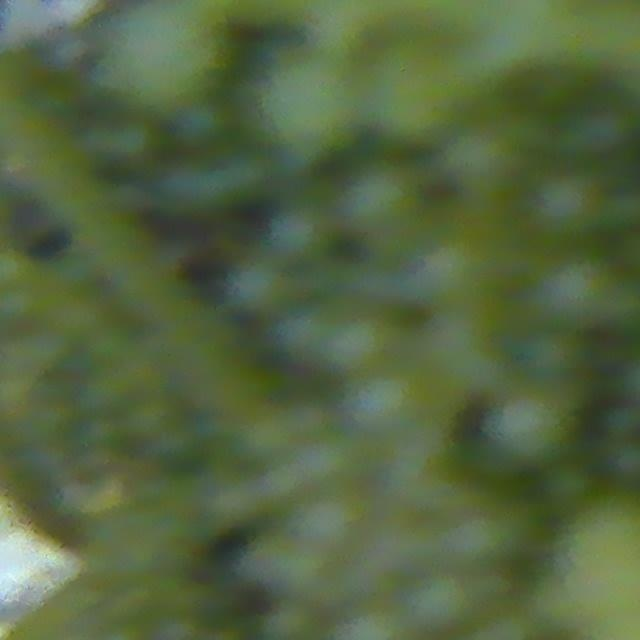SeaGrape: (96, 0, 222, 115), (257, 52, 364, 163), (362, 36, 465, 147), (482, 387, 576, 467), (345, 364, 436, 440), (444, 120, 526, 202), (339, 159, 422, 238), (450, 494, 533, 570), (537, 264, 615, 339), (530, 171, 601, 251), (270, 201, 345, 273), (319, 308, 404, 371), (296, 485, 369, 553), (406, 570, 477, 636), (236, 254, 295, 318), (428, 248, 489, 309), (522, 328, 582, 382)
